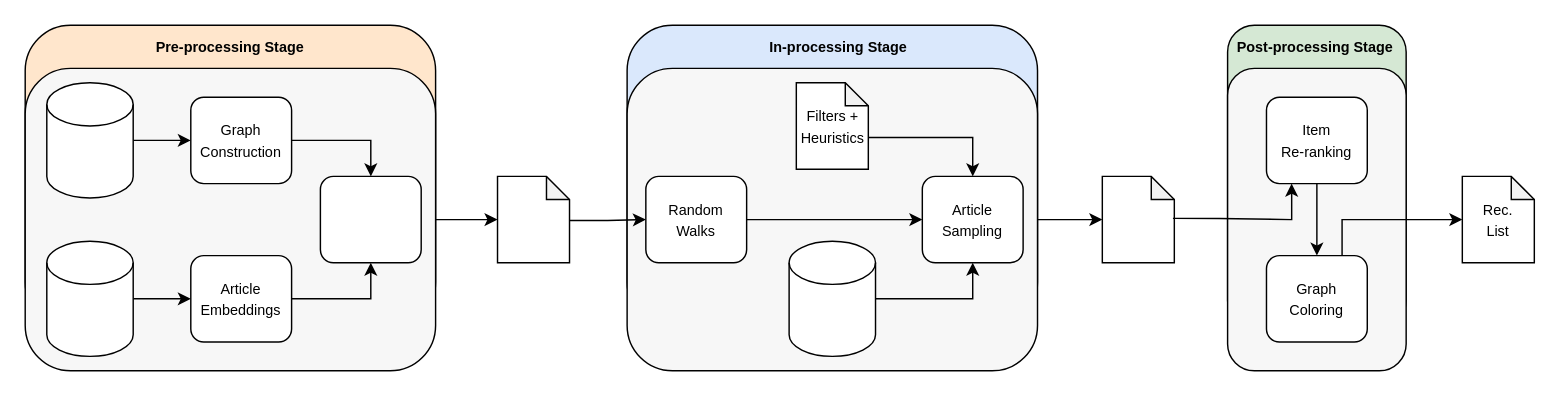
Image size: 1560x396. Some labels were removed from this diagram. The shapes that lost their labels are listed below. From the top down, each one's box as (x1, y1, x2, y2) in pixels, then its label:
(45, 81, 133, 198): User-Item History
(319, 175, 421, 263): Sim.-based Graph Augm.
(496, 175, 570, 263): Item Pool (UxI Graph)
(1101, 175, 1174, 263): Cand. List
(45, 240, 133, 356): New Items
(788, 240, 876, 356): Normative Dist.
